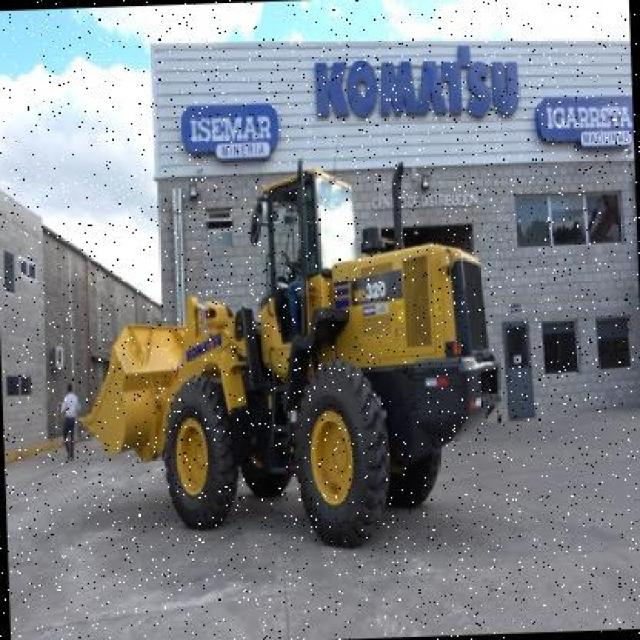buldozerpayloadergrader: (63, 160, 511, 560)
